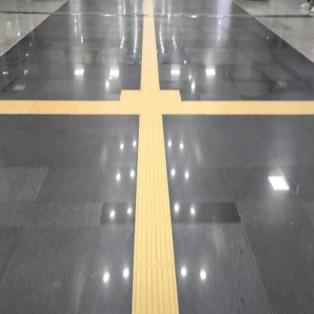Podoctatil: (132, 115, 178, 313), (108, 74, 194, 139), (0, 95, 117, 116), (182, 98, 313, 116), (138, 0, 161, 89)
